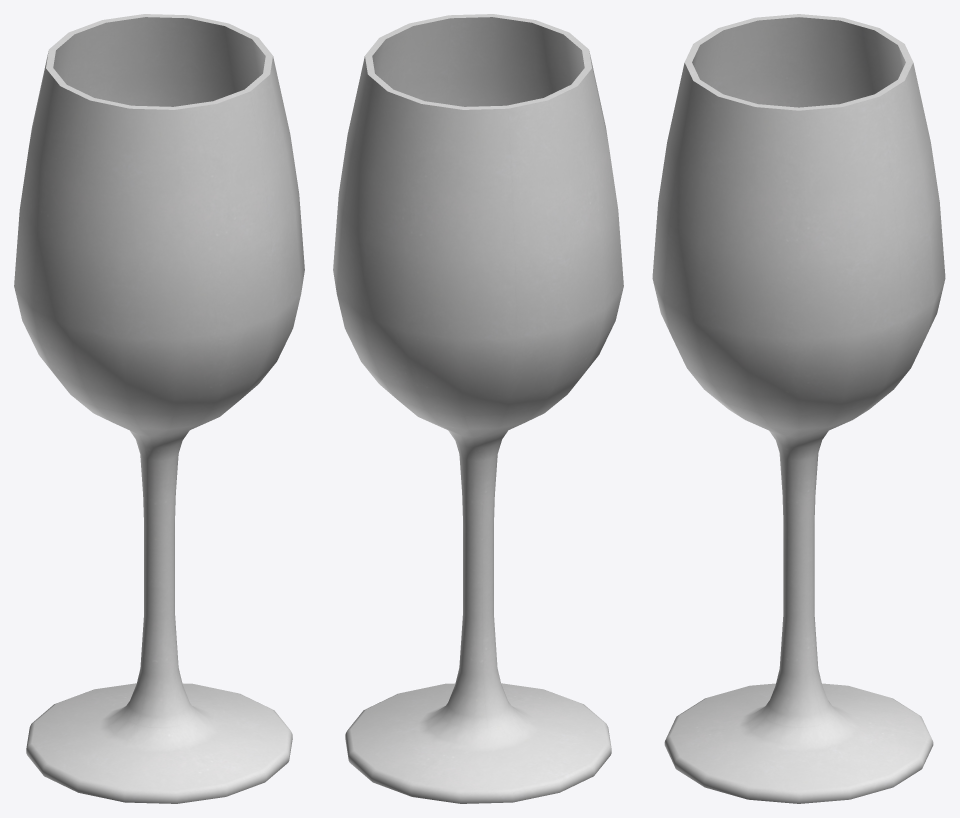
The model's file is simpleglasscup.glb.
3 renders of one model, left to right at view 1: azimuth 30°, elevation 25°; view 2: azimuth 150°, elevation 25°; view 3: azimuth 270°, elevation 25°, orthographic.
Parts seen in each view (by area): view 1: Object_2; view 2: Object_2; view 3: Object_2.
Boxes of the visible parts, box(x1,y1,x2,y2) form: Object_2: box(14, 14, 304, 803); Object_2: box(333, 14, 623, 803); Object_2: box(652, 14, 945, 803).
Bounding box in the file's own units: 3.39 × 8.76 × 3.39.
Materials: 1 (1 with a texture image).
